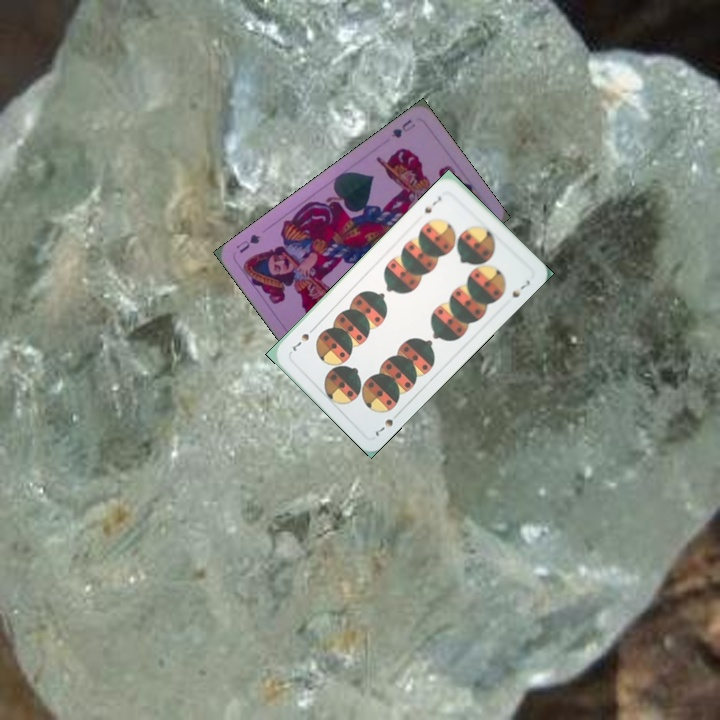GU: (387, 115, 418, 141)
S7: (371, 408, 403, 439), (420, 192, 444, 216)
